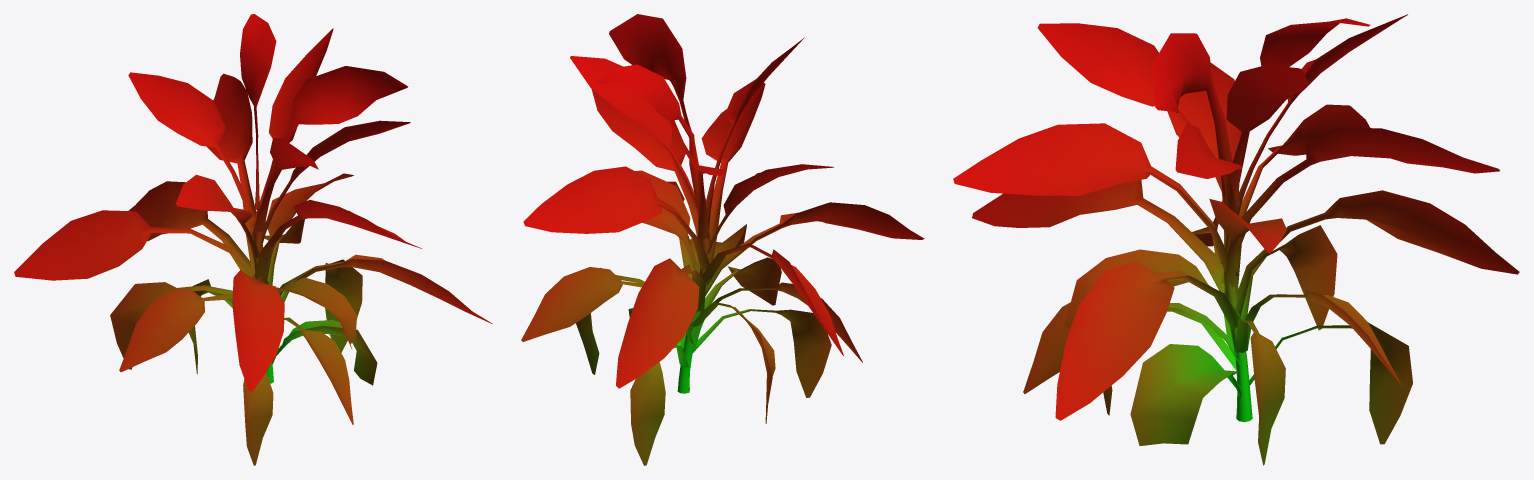
File: Spotted Dumbcane_LOD1_Var2_sjBmG.fbx
The picture shows the model from 3 angles, left to right: view 1: azimuth 30°, elevation 25°; view 2: azimuth 150°, elevation 25°; view 3: azimuth 270°, elevation 25°; orthographic projection. The views are drawn at different scales.
Visible parts, largest first — view 1: _6aac_Var2_LOD1; view 2: _6aac_Var2_LOD1; view 3: _6aac_Var2_LOD1.
Boxes of the visible parts, <box> form: _6aac_Var2_LOD1: <box>14,14,492,465</box>; _6aac_Var2_LOD1: <box>521,14,924,465</box>; _6aac_Var2_LOD1: <box>953,14,1519,465</box>.
Size of the model in its own units: 63.42 by 60.6 by 68.3.
